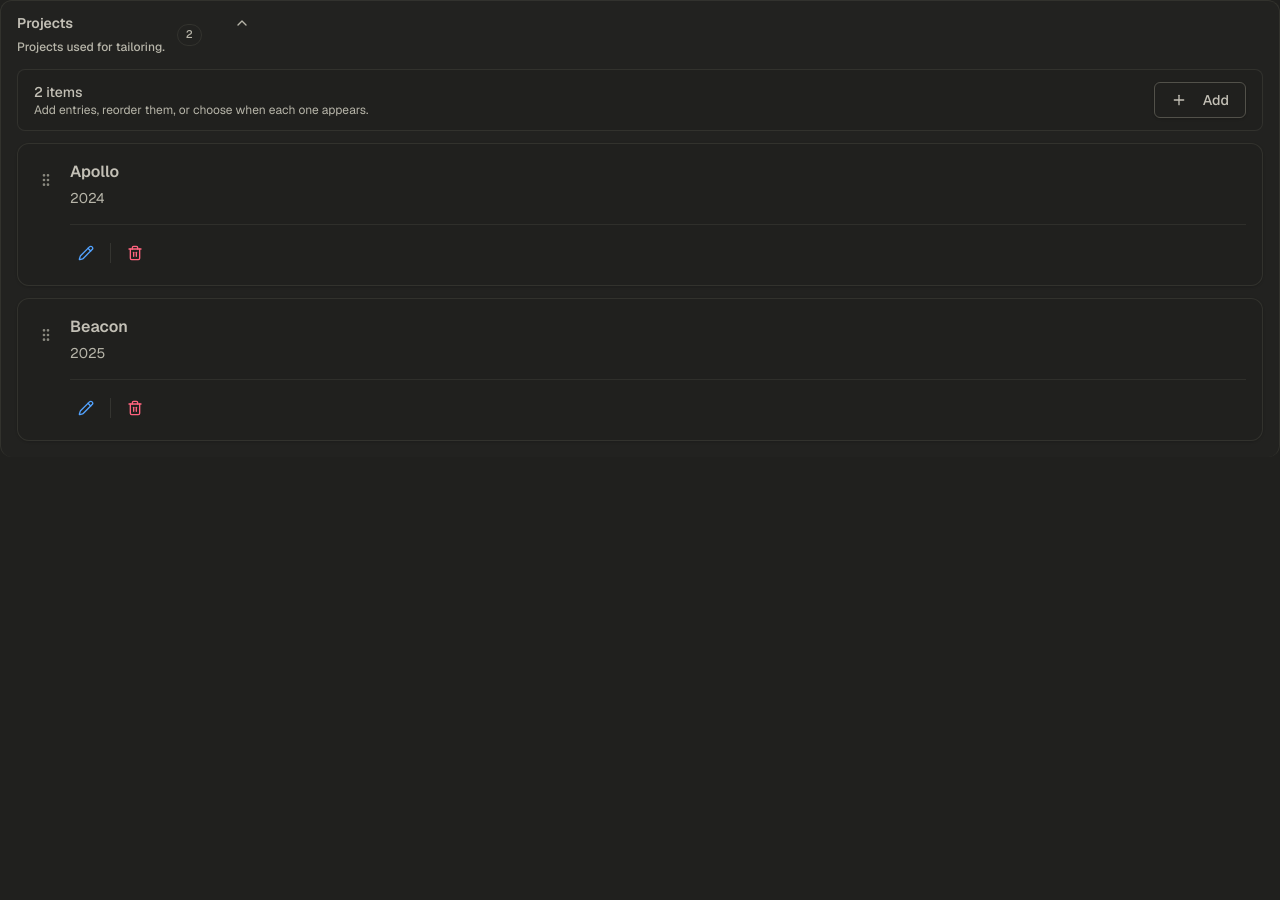
Test: DesignResumeListSection › asks for confirmation before removing an item
This screenshot has width=1280, height=900.
Click the 2nd button named "Remove".
click(135, 253)  # box [119,237,151,269]
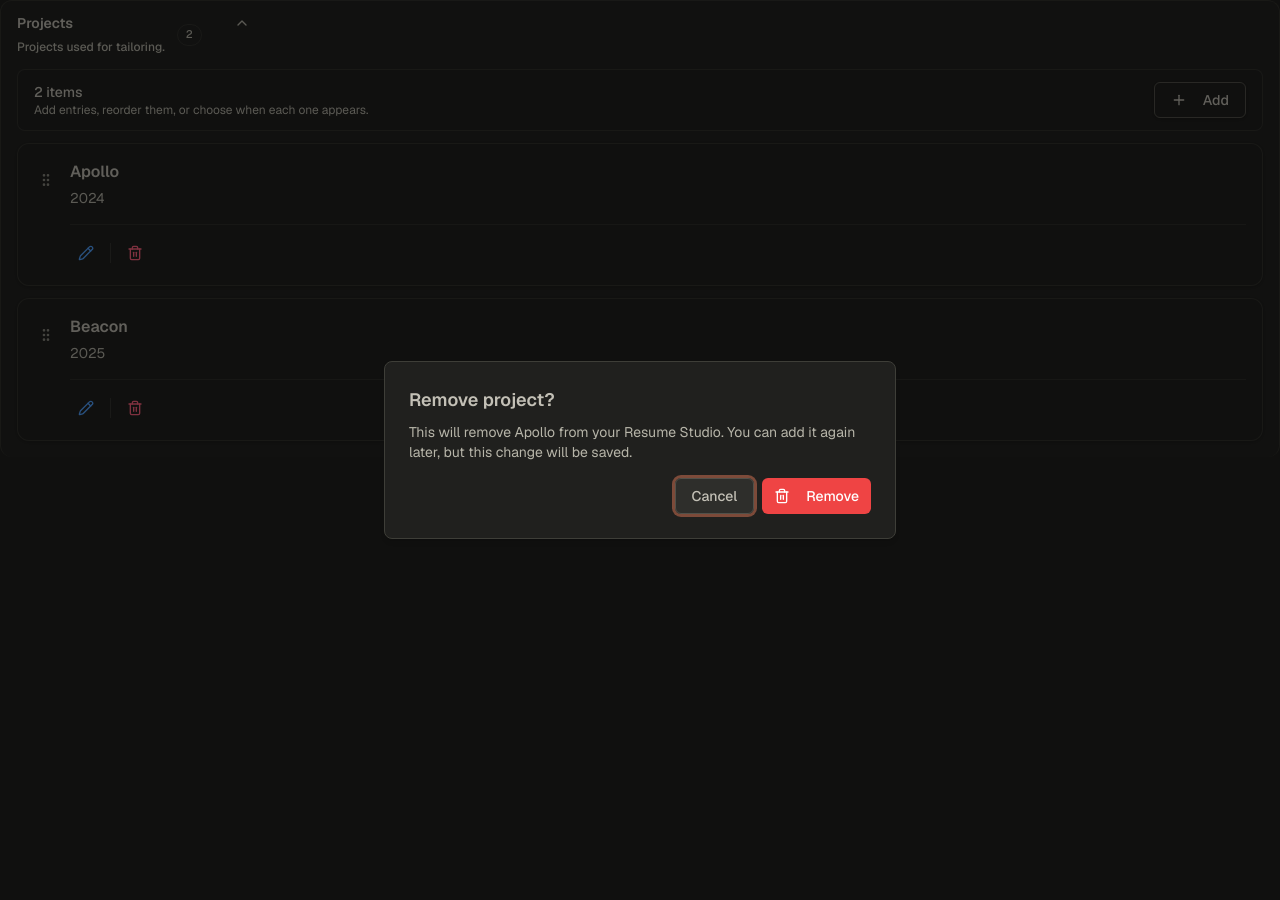
Expected: the dialog "Remove project?" is shown, [384,361,896,539]
Expected: the text "This will remove Apollo from your Resume Studio. You can add it again later, but this change will be saved." is shown, [409,422,871,462]
